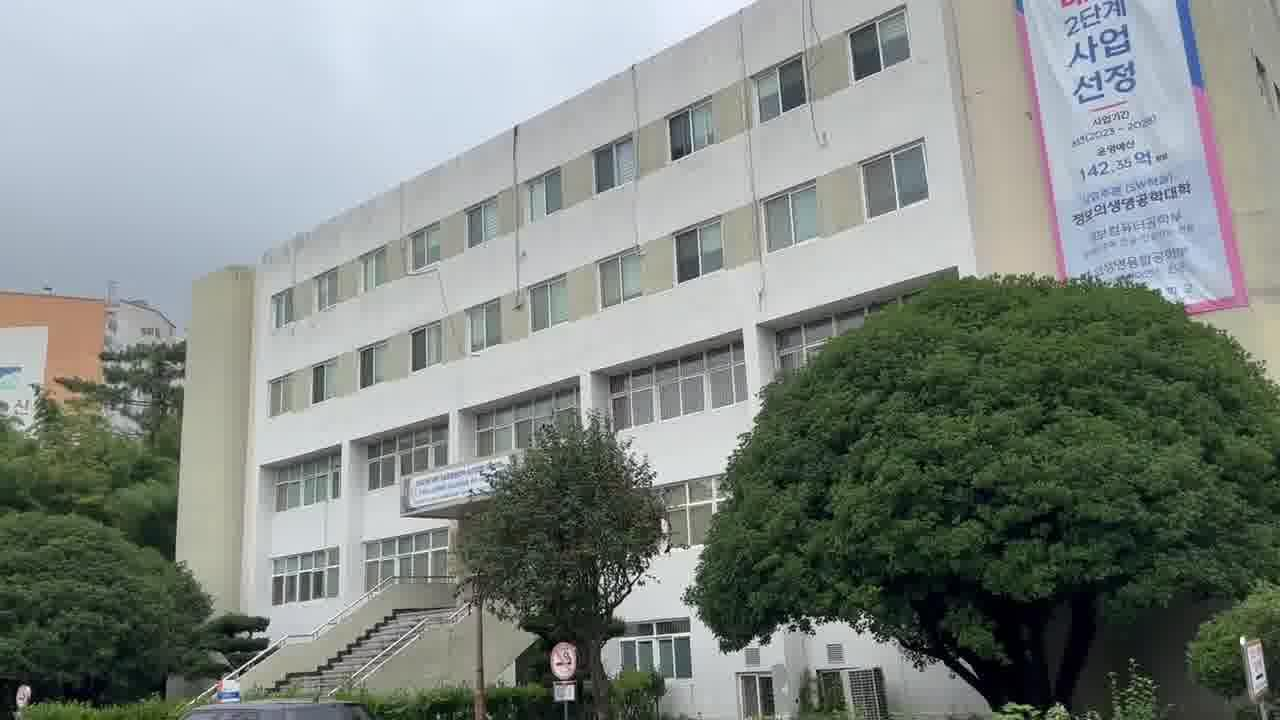building: (171, 80, 746, 459)
